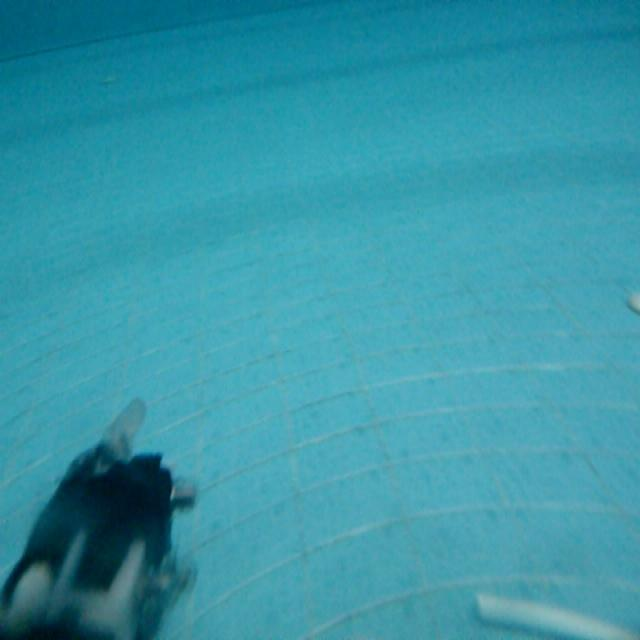Cube: (475, 591, 636, 640)
